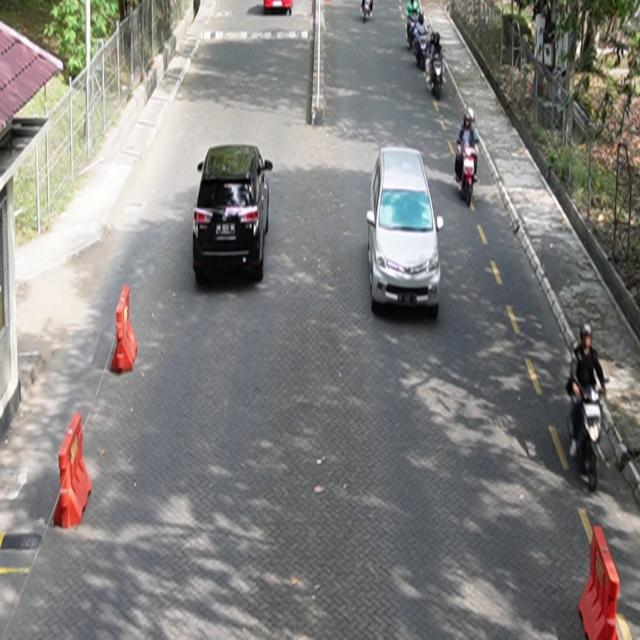car: (367, 146, 445, 319), (193, 144, 274, 284)
